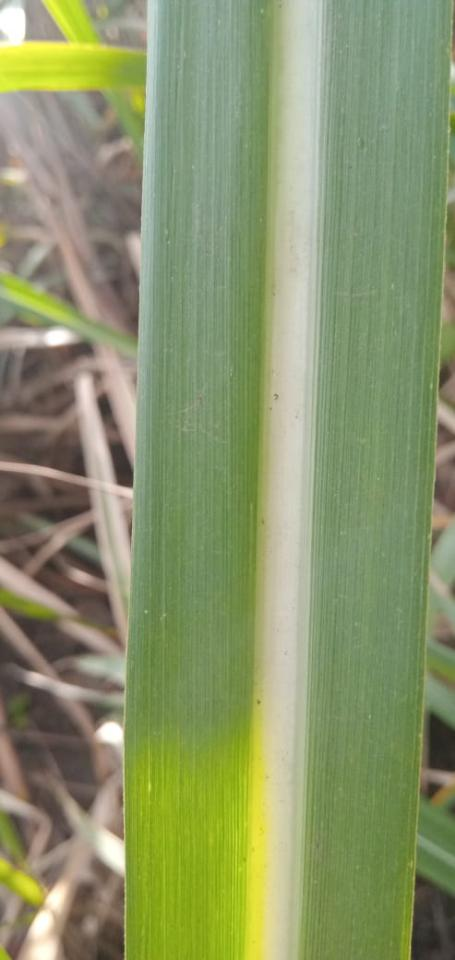Healthy: (125, 0, 450, 959)
